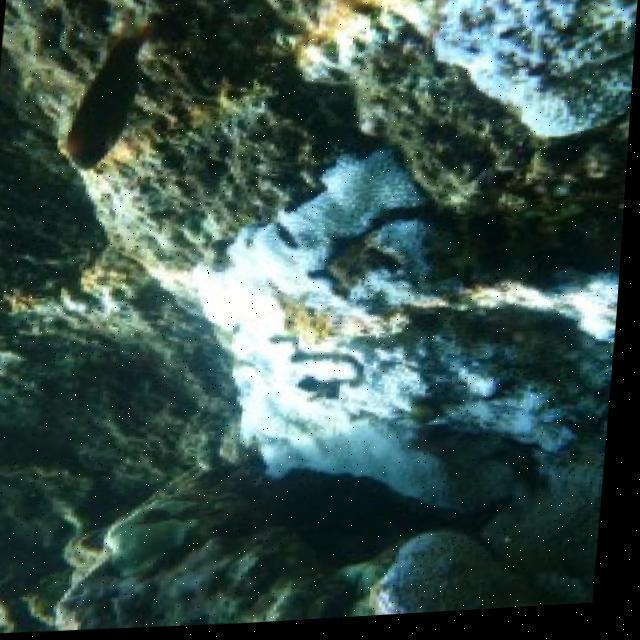Bleached Coral: (231, 163, 519, 509), (413, 0, 640, 140)
